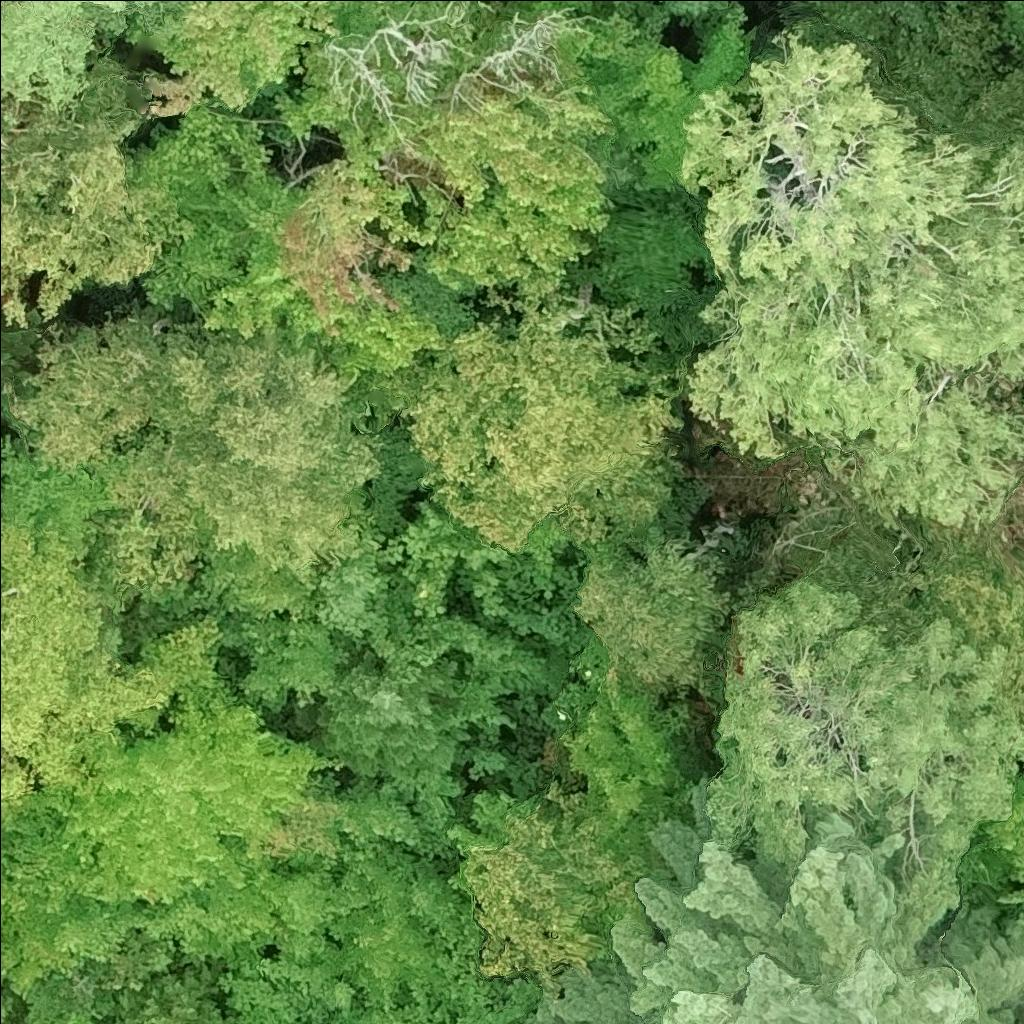crown: (682, 30, 1023, 533), (690, 528, 1023, 898), (272, 0, 637, 303), (6, 310, 385, 593), (532, 823, 1023, 1023), (142, 103, 443, 389), (409, 294, 680, 556), (62, 685, 348, 904), (0, 518, 160, 815), (0, 51, 170, 326), (449, 789, 676, 992), (541, 637, 691, 883), (580, 7, 751, 195), (319, 842, 482, 1022), (571, 524, 730, 705), (0, 0, 215, 111), (297, 650, 469, 777), (187, 871, 370, 974), (216, 949, 365, 1023), (240, 612, 347, 714), (359, 968, 540, 1023), (199, 544, 317, 618), (114, 964, 235, 1023), (0, 307, 41, 416), (0, 997, 15, 1021)
